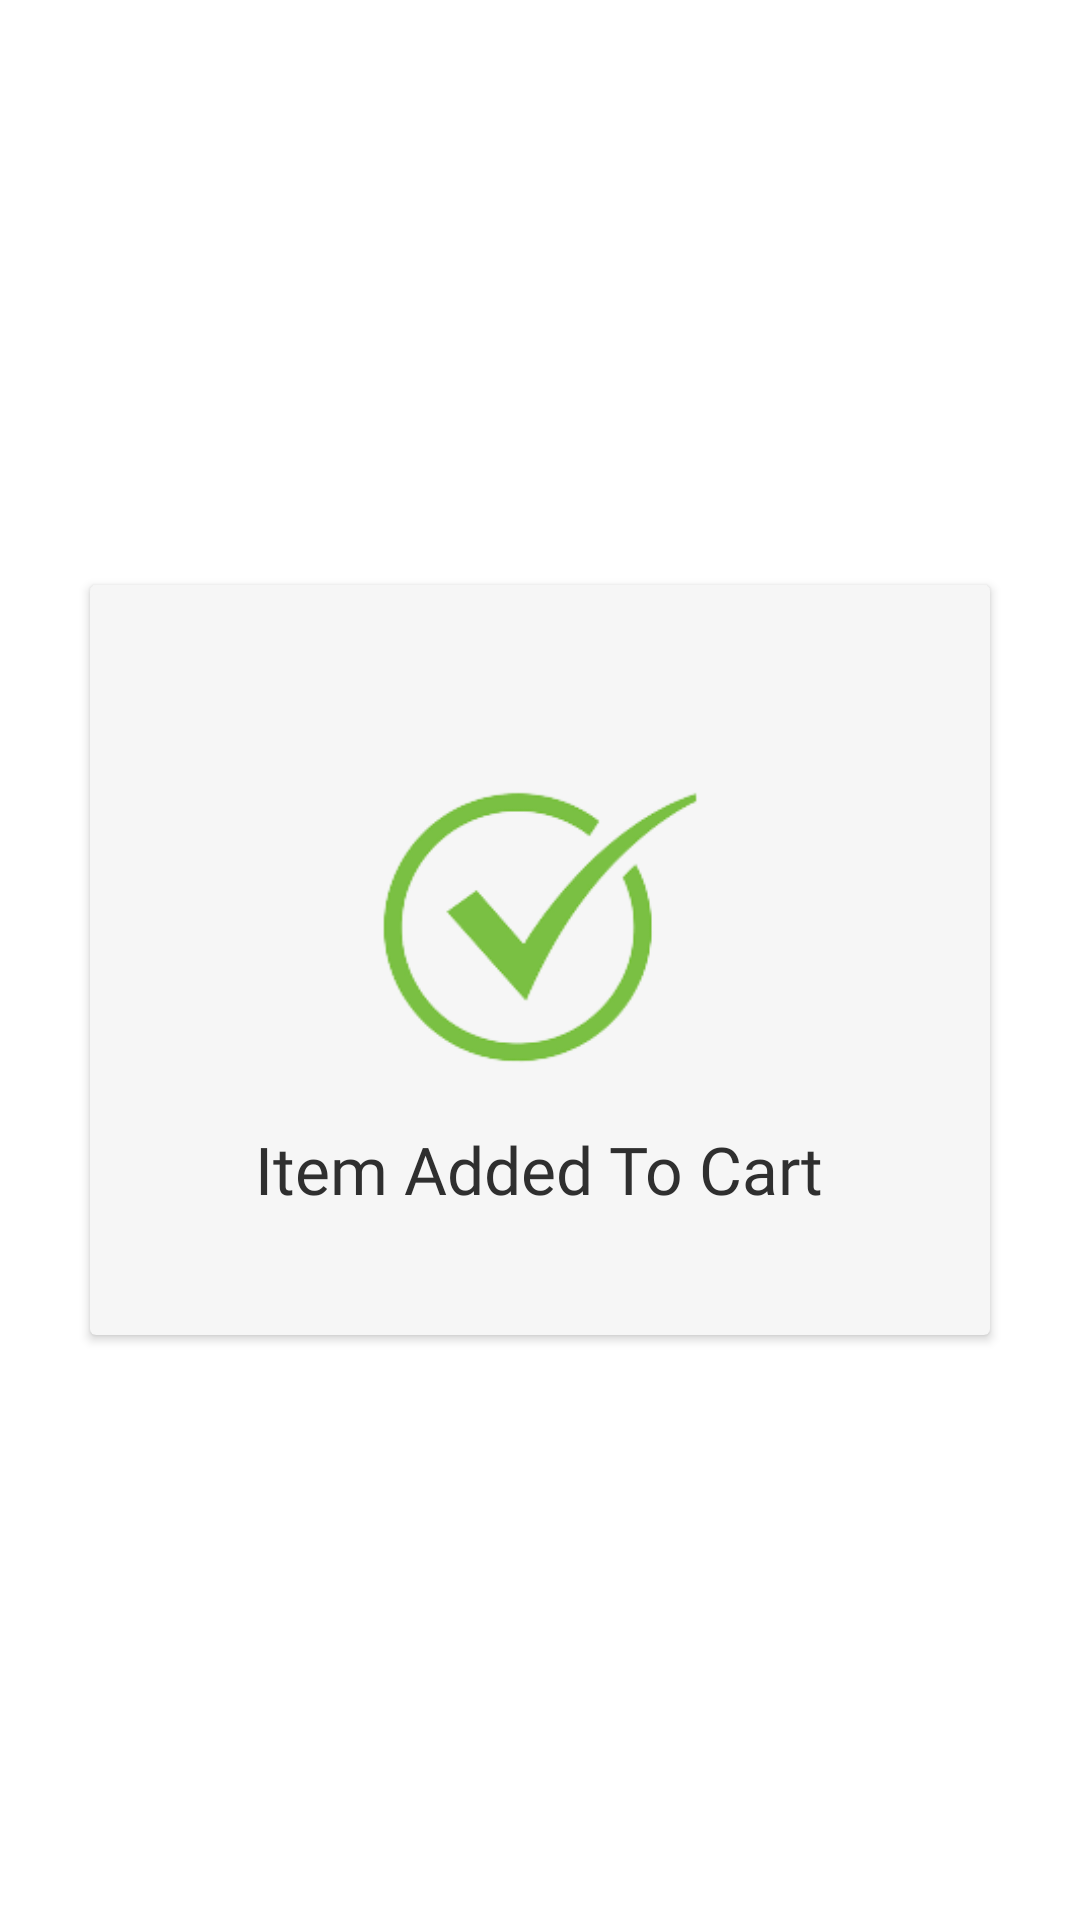

Icon bounding boxes for this 1080×1920 phone screenshot, format (x1, y1, x2, y2):
done: (383, 792, 697, 1062)
